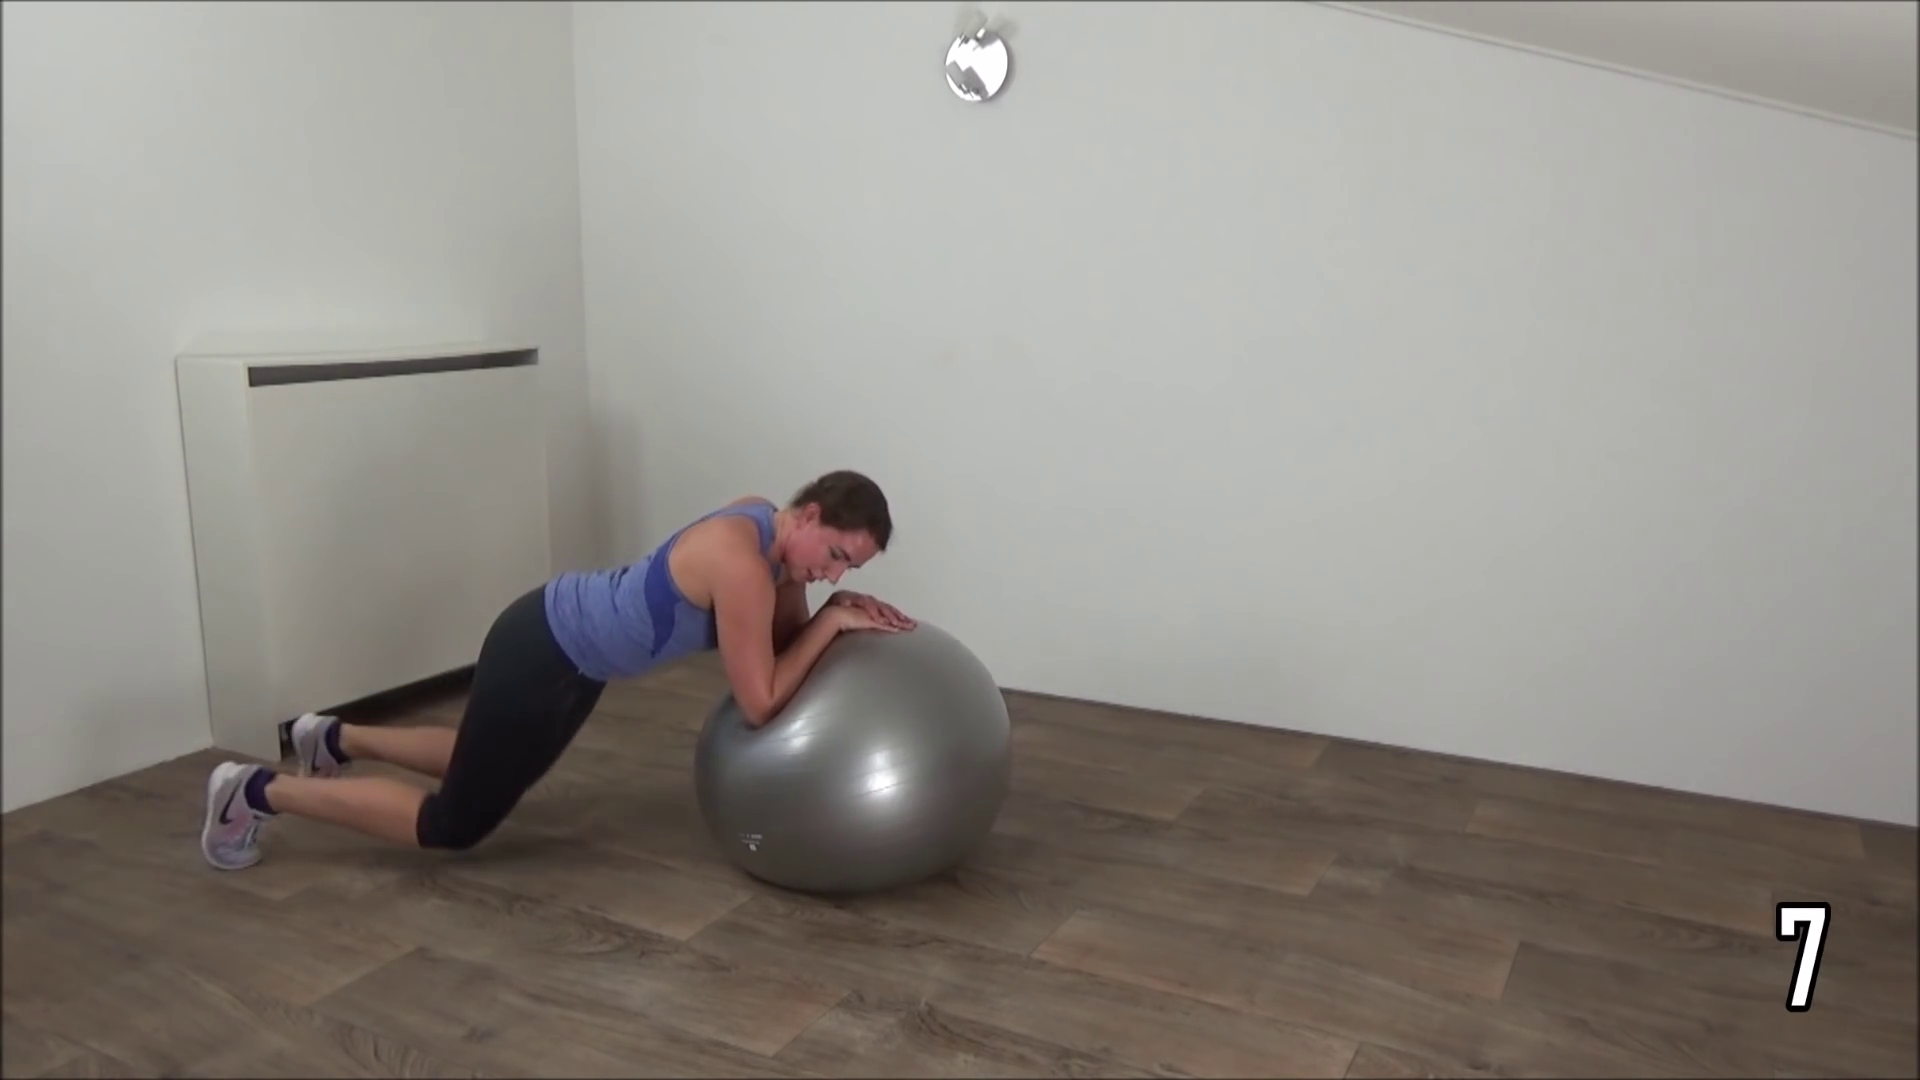yogaball: (678, 611, 1025, 905)
